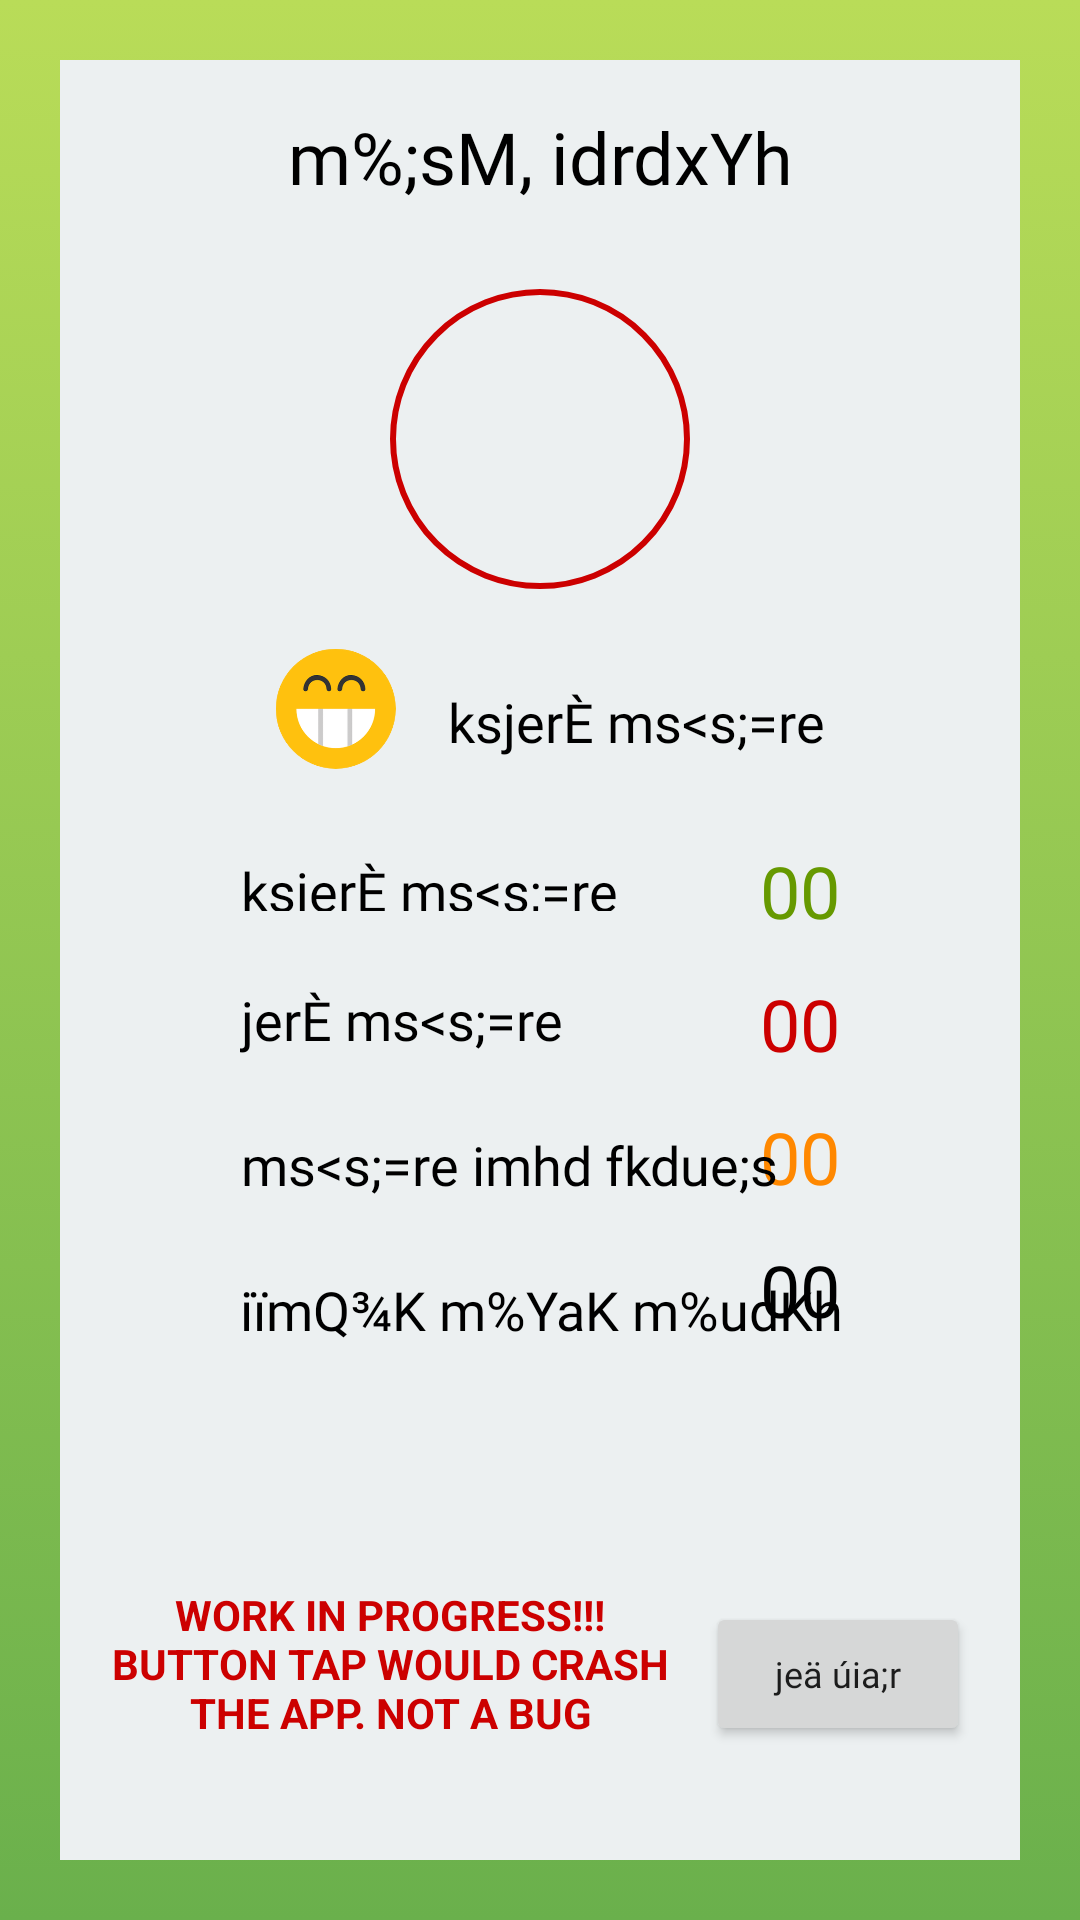

Icon click points for this 1080px×1920px phone screenshot, format [x,y]:
best: [336,709]
